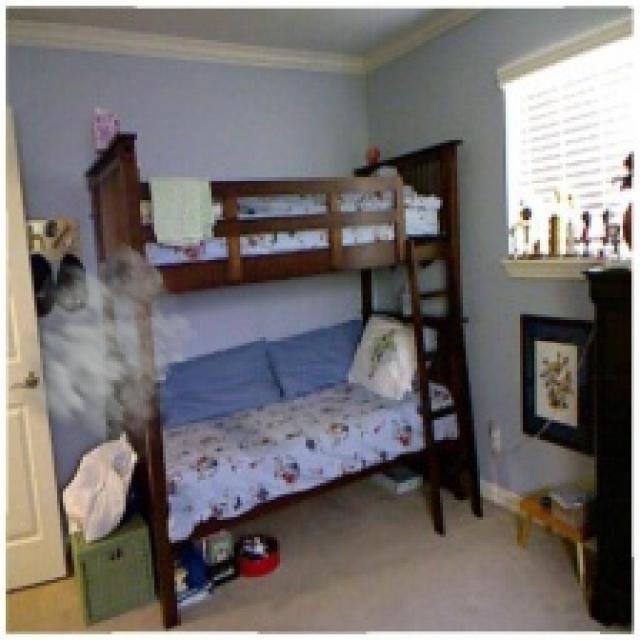smoke: (0, 231, 200, 460)
